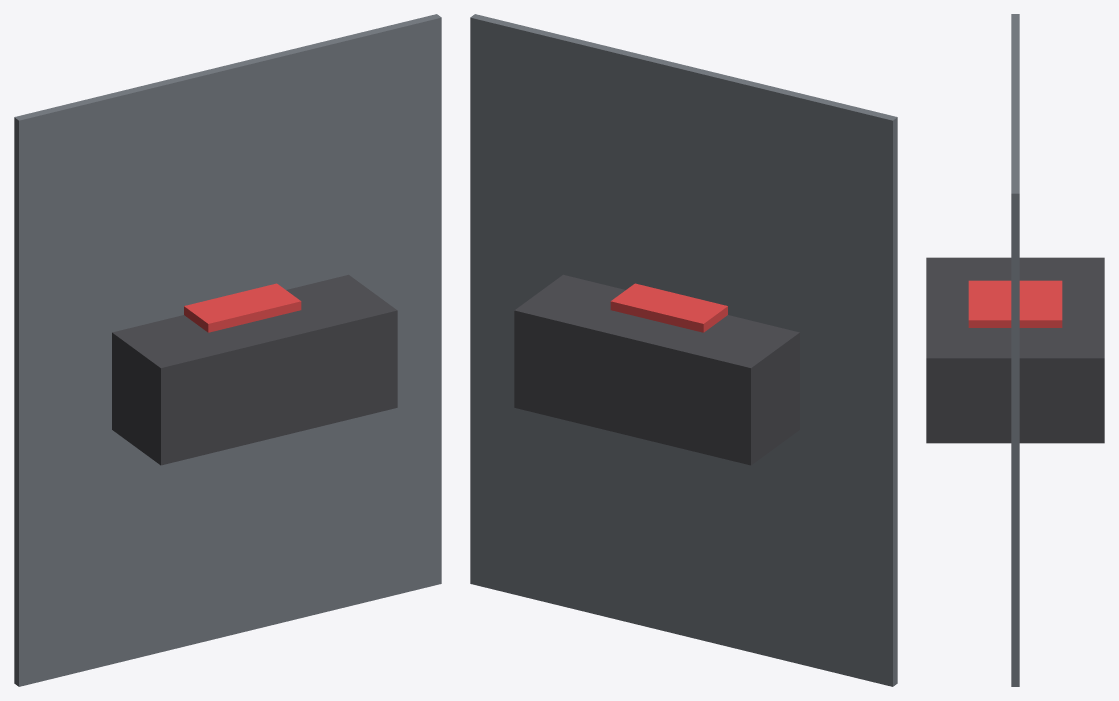
File: 03_Torso_and_Compute_Bay.glb
The picture shows the model from 3 angles, left to right: view 1: azimuth 30°, elevation 25°; view 2: azimuth 150°, elevation 25°; view 3: azimuth 270°, elevation 25°; orthographic projection. The views are drawn at different scales.
Visible parts, largest first — view 1: PANEL_SERVICE_COMPUTE_TORSO, COMP_AI_COMPUTER_ENVELOPE, EMERGENCY_STOP; view 2: PANEL_SERVICE_COMPUTE_TORSO, COMP_AI_COMPUTER_ENVELOPE, EMERGENCY_STOP; view 3: COMP_AI_COMPUTER_ENVELOPE, PANEL_SERVICE_COMPUTE_TORSO, EMERGENCY_STOP.
Boxes of the visible parts, bbox=[...] form: PANEL_SERVICE_COMPUTE_TORSO: bbox=[14, 14, 441, 686]; COMP_AI_COMPUTER_ENVELOPE: bbox=[112, 274, 397, 465]; EMERGENCY_STOP: bbox=[184, 283, 301, 332]; PANEL_SERVICE_COMPUTE_TORSO: bbox=[470, 14, 897, 686]; COMP_AI_COMPUTER_ENVELOPE: bbox=[514, 274, 799, 465]; EMERGENCY_STOP: bbox=[610, 283, 727, 332]; COMP_AI_COMPUTER_ENVELOPE: bbox=[926, 257, 1104, 443]; PANEL_SERVICE_COMPUTE_TORSO: bbox=[1011, 14, 1019, 686]; EMERGENCY_STOP: bbox=[968, 280, 1062, 327].
Bounding box in the file's own units: 0.25 × 0.32 × 0.105.
